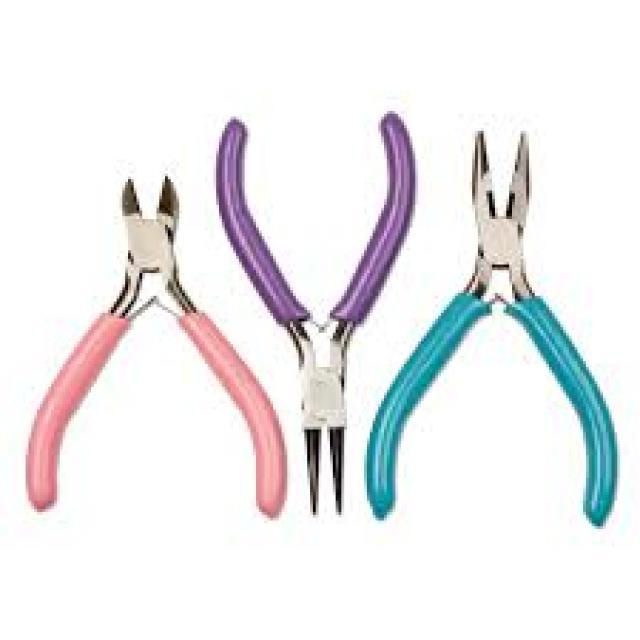pliers: (358, 123, 628, 521), (23, 168, 294, 522), (206, 111, 424, 522)
